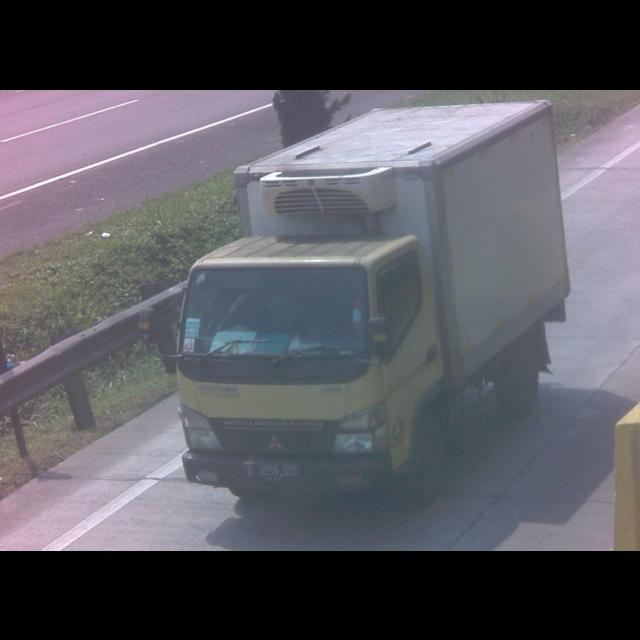plate: (240, 458, 304, 484)
